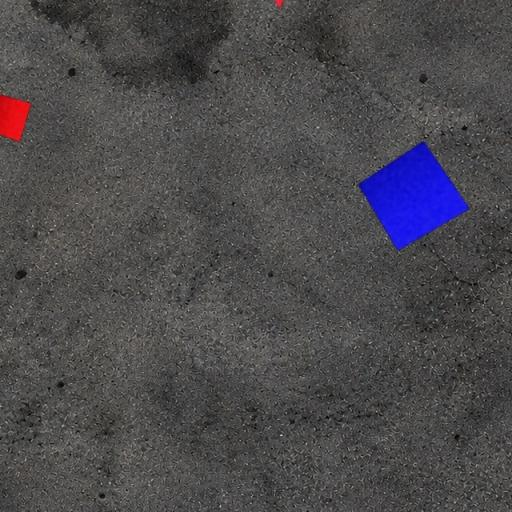BLUE_SQUARE: (357, 140, 470, 252)
RED_SQUARE: (0, 94, 32, 142)
